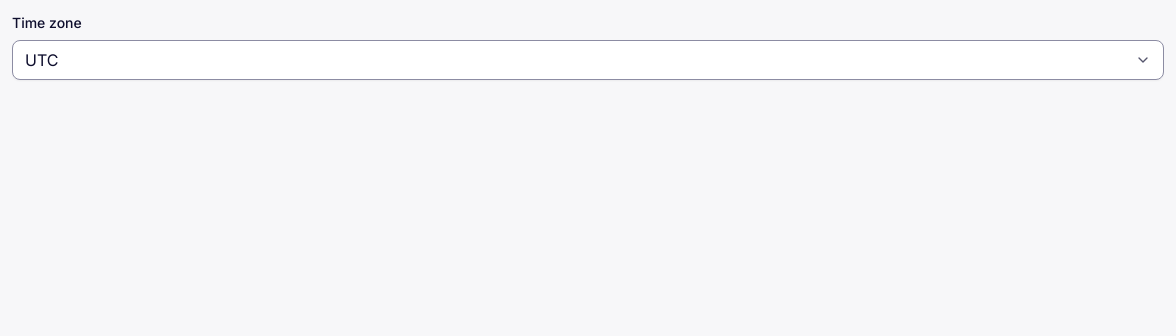
SelectField › lists options with a group under its heading
Click the dropdown named "Time zone".
click(42, 60)  # box x1=12 y1=40 x2=1164 y2=80
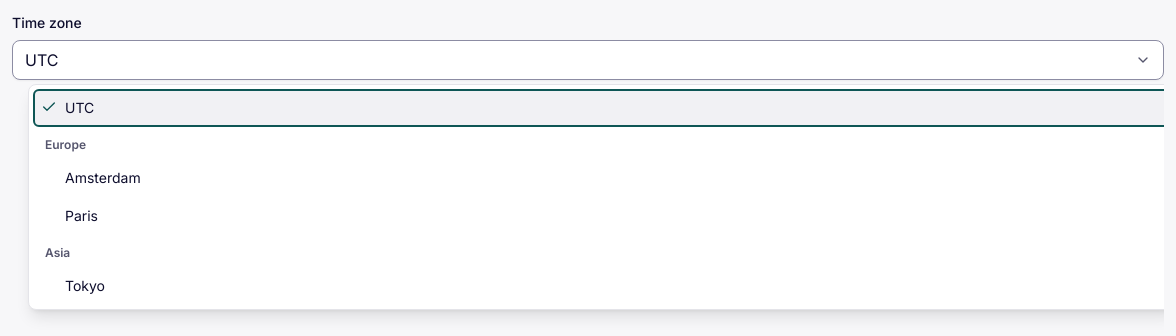
Expected: the options read "Amsterdam", "Paris", in this order, x1=65 y1=169 x2=141 y2=186; x1=65 y1=207 x2=98 y2=224
Expected: the option "Tokyo" is shown, x1=65 y1=277 x2=105 y2=294
